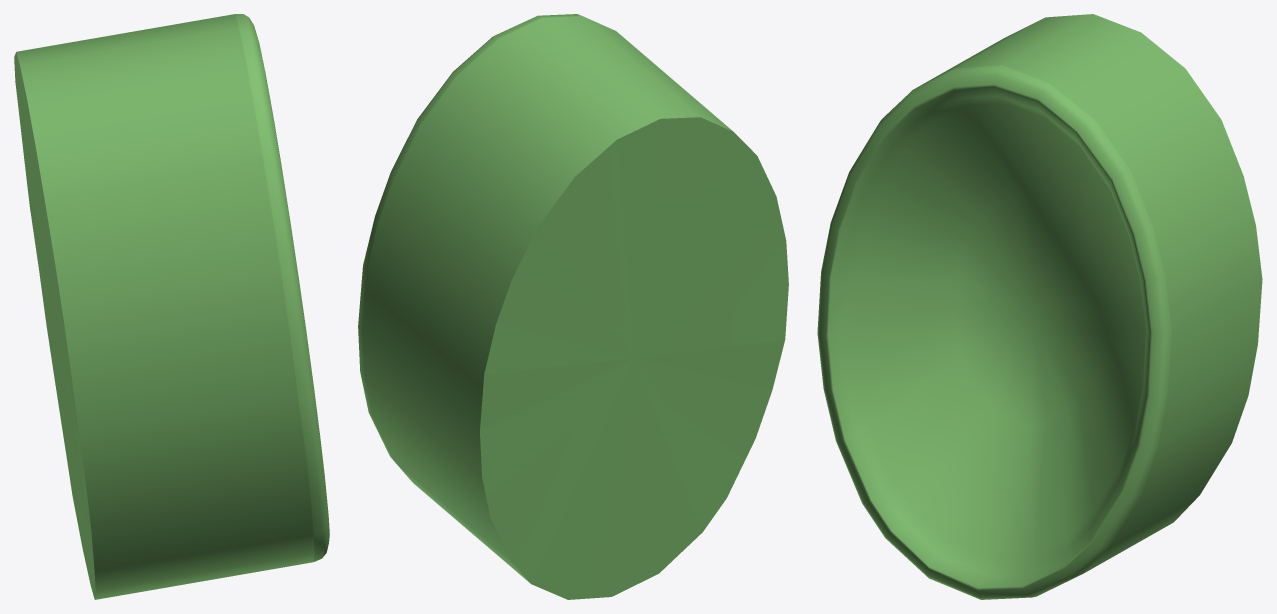
The model's file is BR5_8shapes_Oval_Classic_Metal.001 3.glb.
The picture shows the model from 3 angles, left to right: view 1: azimuth 30°, elevation 25°; view 2: azimuth 150°, elevation 25°; view 3: azimuth 270°, elevation 25°; orthographic projection. The views are drawn at different scales.
Parts seen in each view (by area): view 1: BR5_8shapes_Oval_Classic_Metal.001; view 2: BR5_8shapes_Oval_Classic_Metal.001; view 3: BR5_8shapes_Oval_Classic_Metal.001.
Part boxes in pixels (box(x1,y1,x2,y2)): BR5_8shapes_Oval_Classic_Metal.001: box(14, 14, 329, 599); BR5_8shapes_Oval_Classic_Metal.001: box(358, 14, 788, 599); BR5_8shapes_Oval_Classic_Metal.001: box(817, 14, 1262, 599).
Size of the model in its own units: 0.3968 by 0.6357 by 0.4796.
